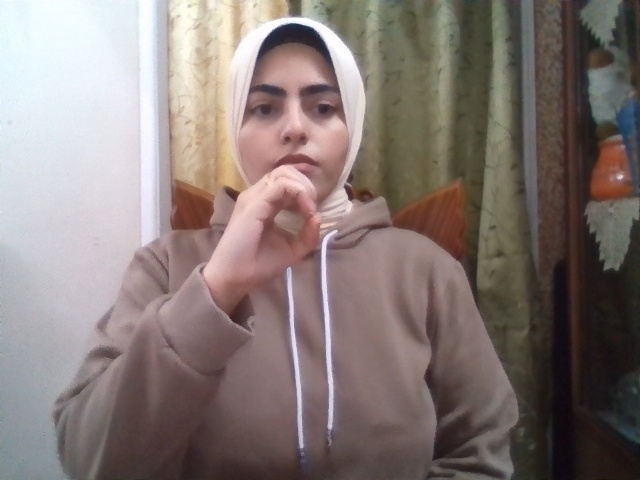O: (220, 164, 321, 284)
